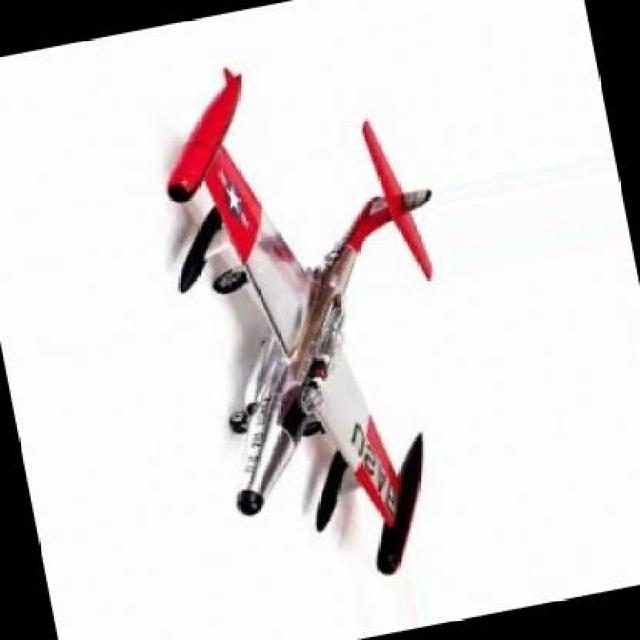iha: (163, 63, 454, 578)
